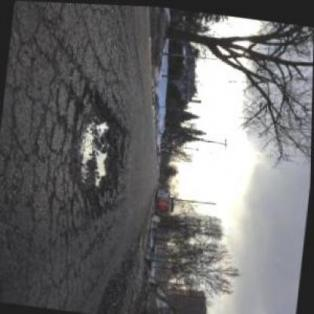Hueco: (64, 88, 131, 206)
